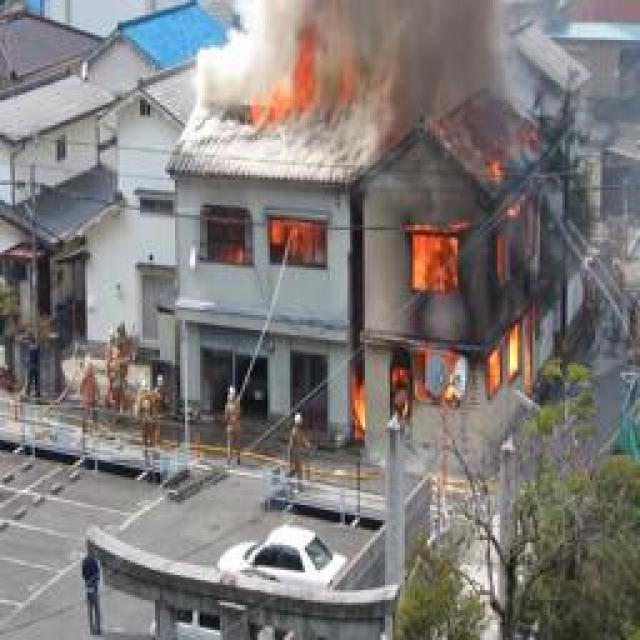Fire: (349, 158, 547, 437), (243, 42, 347, 128), (227, 219, 328, 269)
